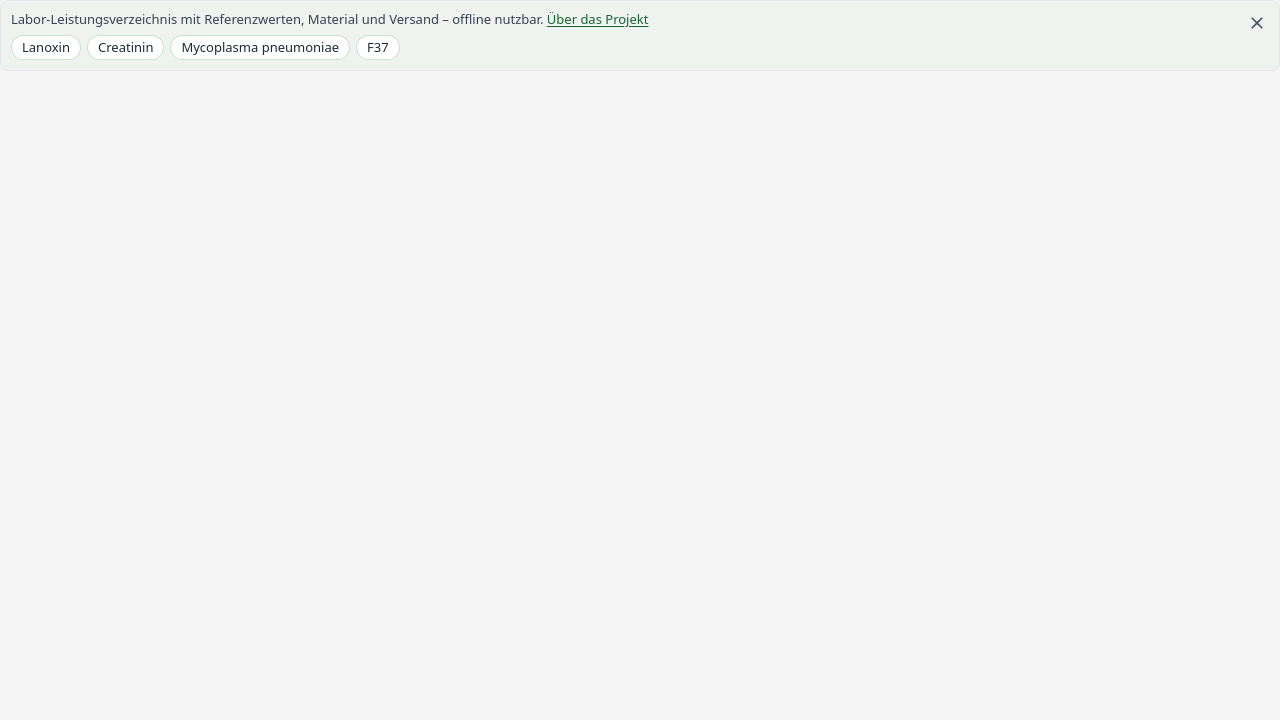
it: WillkommenHinweis › öffnet und schließt den Dialog „Über das Projekt“
Click the button "Über das Projekt" at {"x": 598, "y": 20}, box [547,11,648,29]
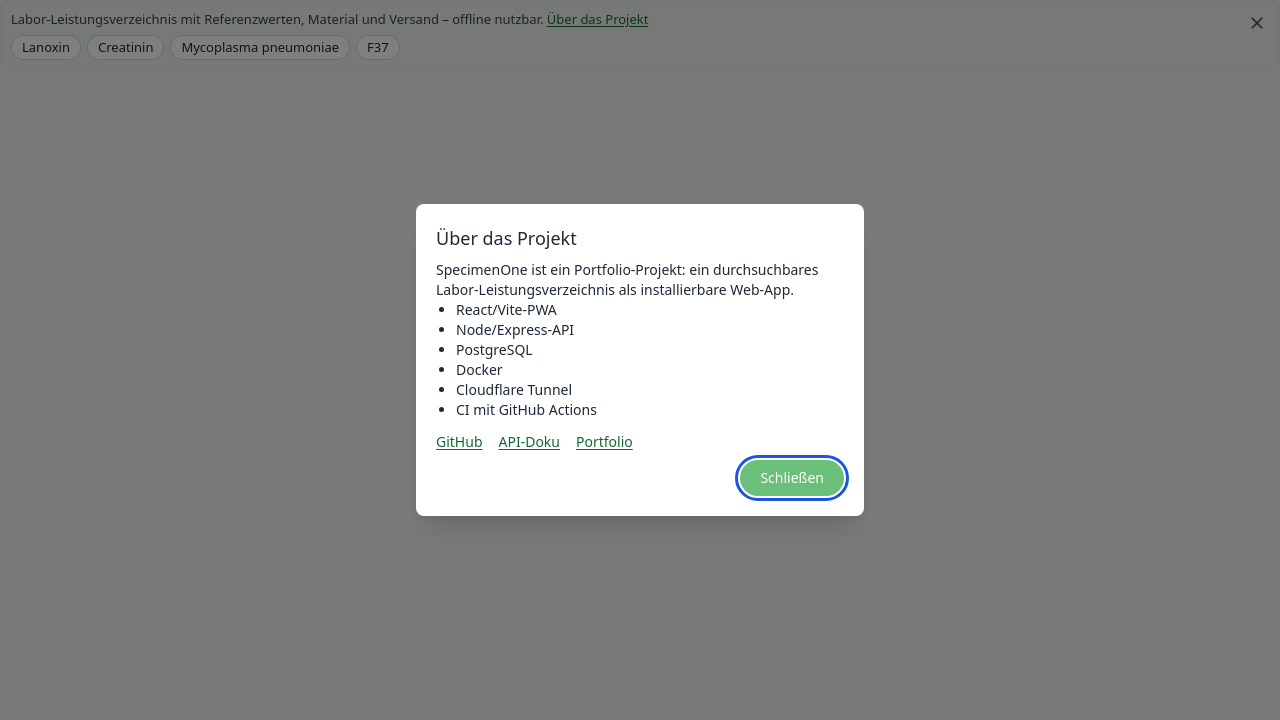
Result: the dialog is shown at [416,204,864,516]
Press Escape
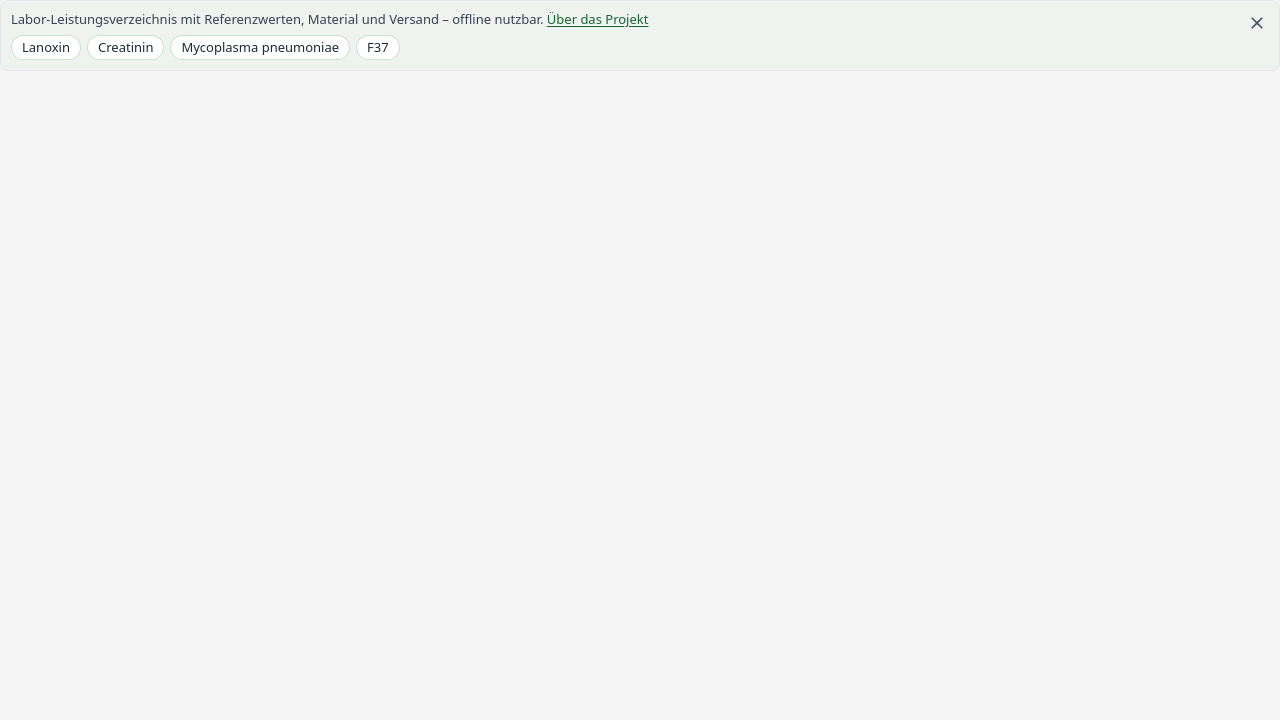
Result: the dialog is gone
